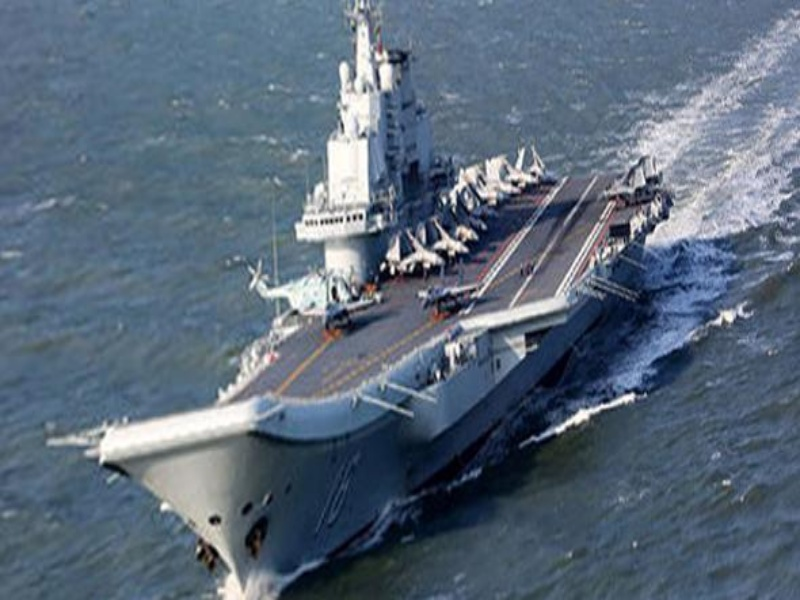carrier: (95, 65, 661, 583)
